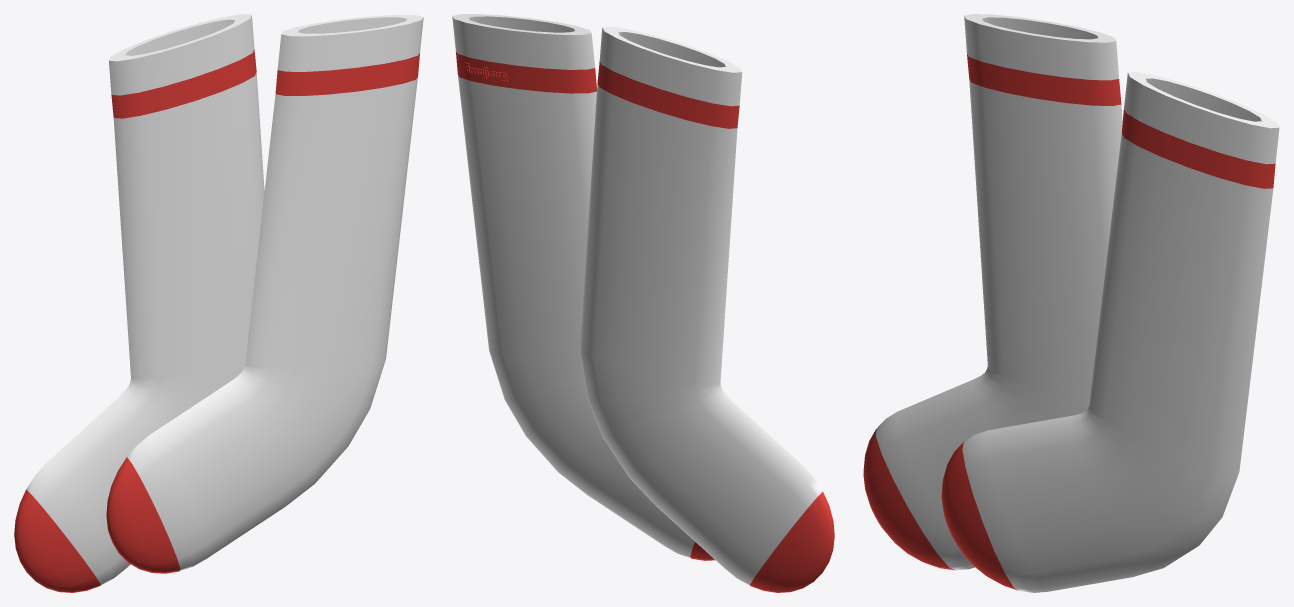
File: socks.fbx
3 views of the same model, side by side, from view 1: azimuth 30°, elevation 25°; view 2: azimuth 150°, elevation 25°; view 3: azimuth 330°, elevation 25° (orthographic). The views are drawn at different scales.
Visible parts, largest first — view 1: Sphere.353; view 2: Sphere.353; view 3: Sphere.353.
Boxes of the visible parts, x1,y1,x2,y2 form: Sphere.353: (14, 14, 423, 592); Sphere.353: (452, 14, 834, 592); Sphere.353: (863, 14, 1279, 592).
Size of the model in its own units: 177 by 226 by 20.59.
Materials: 1 (1 with a texture image).
